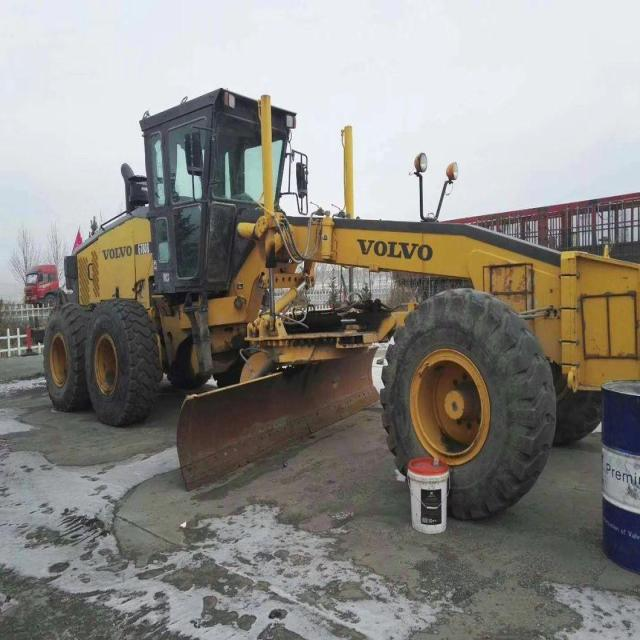buldozerpayloadergrader: (33, 76, 640, 514)
